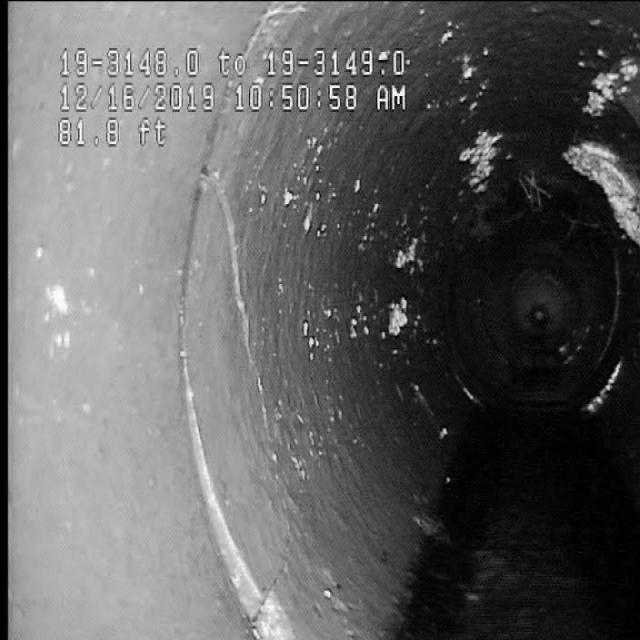Crack: (193, 156, 309, 462)
